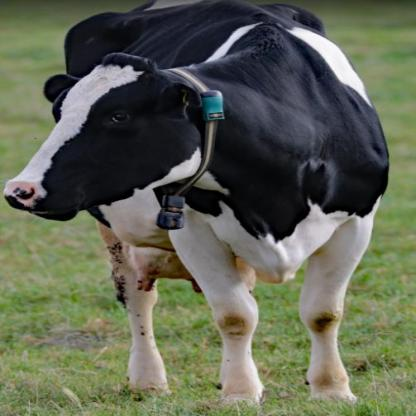cow: (3, 0, 392, 407)
